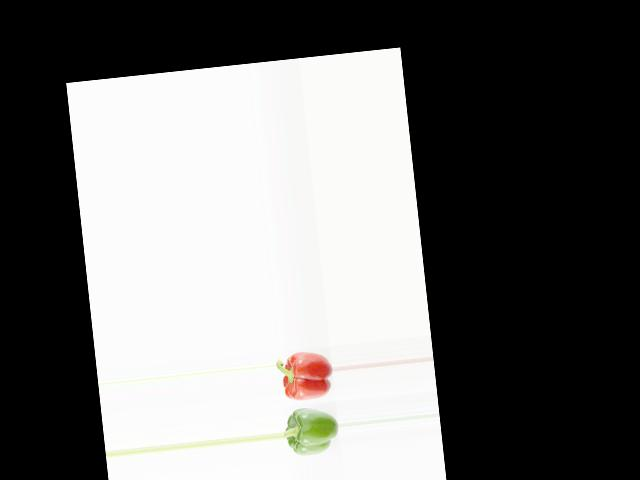bell_pepper: (281, 403, 339, 459)
